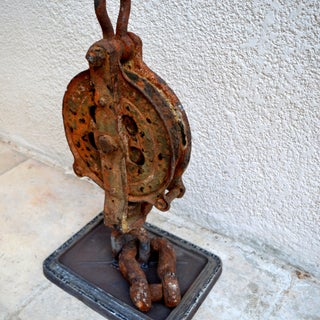rust: (140, 96, 183, 181), (74, 77, 97, 178), (100, 44, 135, 84)
